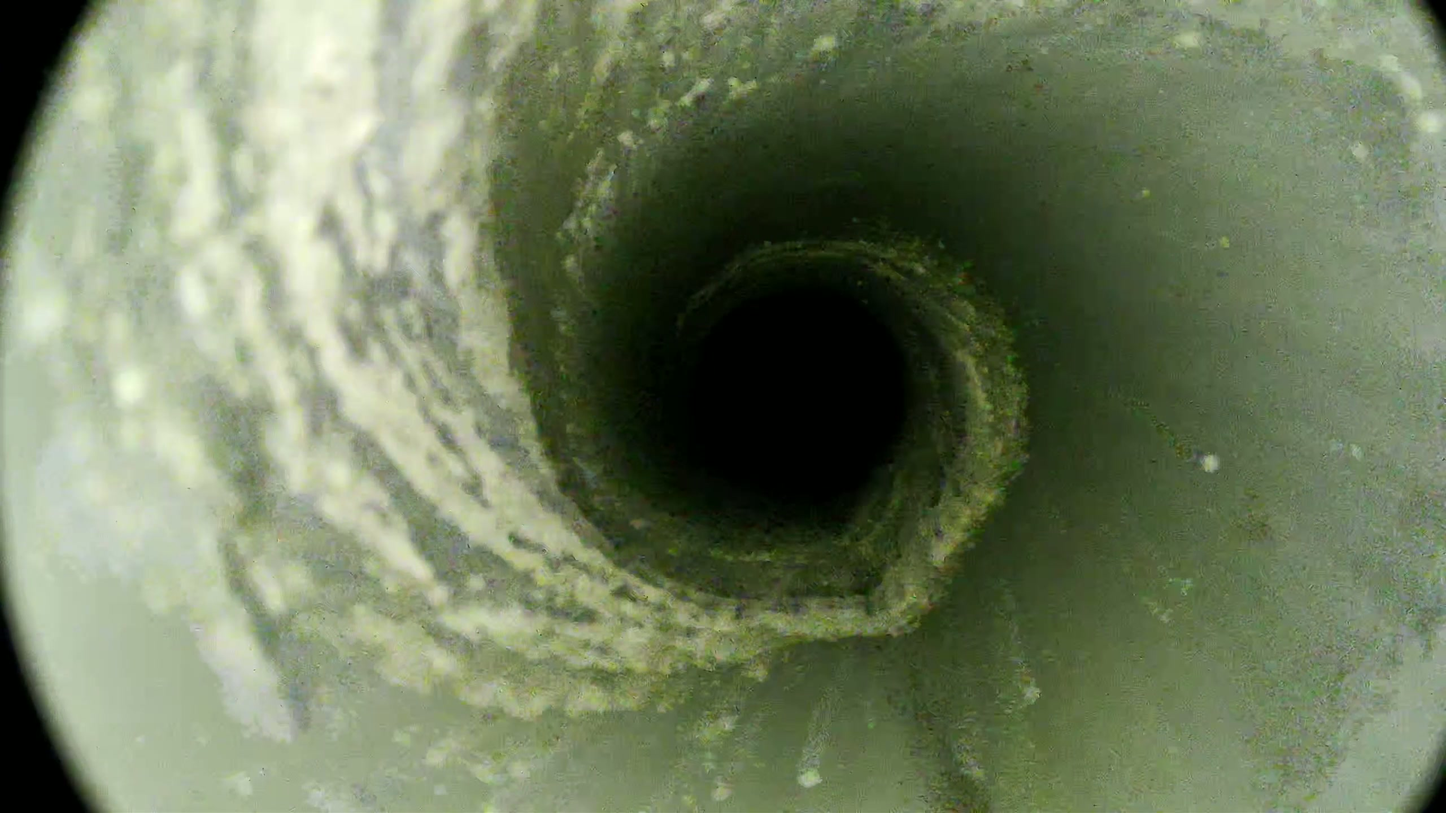hole: (694, 292, 904, 500)
